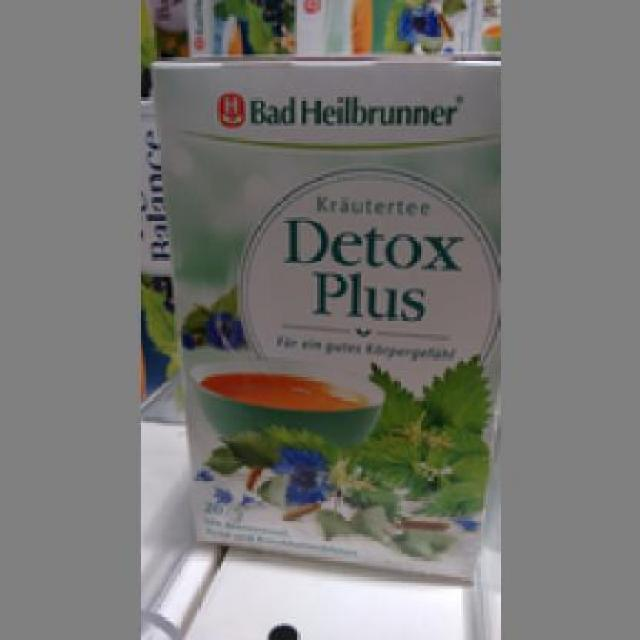Tea: (146, 48, 494, 584)
